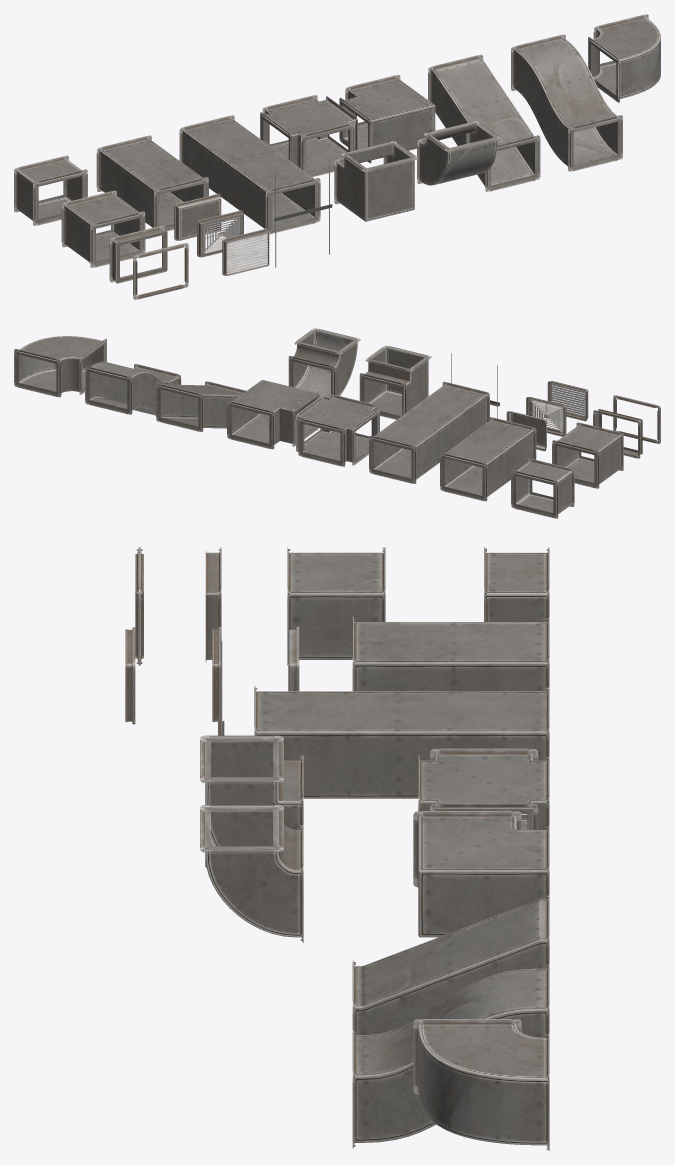
3 views of the same model, one above another, from view 1: azimuth 30°, elevation 25°; view 2: azimuth 150°, elevation 25°; view 3: azimuth 270°, elevation 25° (orthographic). The views are drawn at different scales.
Parts seen in each view (by area): view 1: modular_airduct_rectangular_01_tripple_01, modular_airduct_rectangular_01_transition_double_02, modular_airduct_rectangular_01_transition_double_01, modular_airduct_rectangular_01_double_01, modular_airduct_rectangular_01_splitter_01, modular_airduct_rectangular_01_corner_01, modular_airduct_rectangular_01_corner_02, modular_airduct_rectangular_01_bend_02, modular_airduct_rectangular_01_single_01, modular_airduct_rectangular_01_bend_01, modular_airduct_rectangular_01_half_01, modular_airduct_rectangular_01_vent_01 (+4 smaller); view 2: modular_airduct_rectangular_01_tripple_01, modular_airduct_rectangular_01_double_01, modular_airduct_rectangular_01_splitter_01, modular_airduct_rectangular_01_corner_02, modular_airduct_rectangular_01_bend_02, modular_airduct_rectangular_01_corner_01, modular_airduct_rectangular_01_bend_01, modular_airduct_rectangular_01_transition_double_02, modular_airduct_rectangular_01_single_01, modular_airduct_rectangular_01_transition_double_01, modular_airduct_rectangular_01_half_01, modular_airduct_rectangular_01_vent_01 (+4 smaller); view 3: modular_airduct_rectangular_01_tripple_01, modular_airduct_rectangular_01_bend_02, modular_airduct_rectangular_01_corner_02, modular_airduct_rectangular_01_double_01, modular_airduct_rectangular_01_transition_double_01, modular_airduct_rectangular_01_transition_double_02, modular_airduct_rectangular_01_bend_01, modular_airduct_rectangular_01_single_01, modular_airduct_rectangular_01_splitter_01, modular_airduct_rectangular_01_corner_01, modular_airduct_rectangular_01_half_01, modular_airduct_rectangular_01_connector_01 (+3 smaller).
Boxes of the visible parts, left/top/right/bottom form: modular_airduct_rectangular_01_tripple_01: left=179, top=115, right=320, bottom=233; modular_airduct_rectangular_01_transition_double_02: left=511, top=34, right=622, bottom=171; modular_airduct_rectangular_01_transition_double_01: left=428, top=54, right=540, bottom=191; modular_airduct_rectangular_01_double_01: left=96, top=135, right=208, bottom=231; modular_airduct_rectangular_01_splitter_01: left=260, top=95, right=357, bottom=176; modular_airduct_rectangular_01_corner_01: left=334, top=141, right=417, bottom=221; modular_airduct_rectangular_01_corner_02: left=339, top=74, right=435, bottom=163; modular_airduct_rectangular_01_bend_02: left=588, top=14, right=660, bottom=102; modular_airduct_rectangular_01_single_01: left=61, top=190, right=145, bottom=267; modular_airduct_rectangular_01_bend_01: left=417, top=121, right=500, bottom=185; modular_airduct_rectangular_01_half_01: left=14, top=155, right=87, bottom=225; modular_airduct_rectangular_01_vent_01: left=222, top=229, right=269, bottom=275; modular_airduct_rectangular_01_tripple_01: left=369, top=381, right=489, bottom=483; modular_airduct_rectangular_01_double_01: left=440, top=417, right=536, bottom=501; modular_airduct_rectangular_01_splitter_01: left=296, top=394, right=379, bottom=466; modular_airduct_rectangular_01_corner_02: left=227, top=380, right=319, bottom=449; modular_airduct_rectangular_01_bend_02: left=14, top=336, right=106, bottom=397; modular_airduct_rectangular_01_corner_01: left=359, top=345, right=431, bottom=419; modular_airduct_rectangular_01_bend_01: left=288, top=328, right=360, bottom=399; modular_airduct_rectangular_01_transition_double_02: left=85, top=361, right=181, bottom=415; modular_airduct_rectangular_01_single_01: left=552, top=422, right=623, bottom=488; modular_airduct_rectangular_01_transition_double_01: left=156, top=381, right=246, bottom=431; modular_airduct_rectangular_01_half_01: left=511, top=458, right=574, bottom=518; modular_airduct_rectangular_01_vent_01: left=547, top=381, right=588, bottom=421; modular_airduct_rectangular_01_tripple_01: left=254, top=686, right=549, bottom=798; modular_airduct_rectangular_01_bend_02: left=413, top=1019, right=549, bottom=1150; modular_airduct_rectangular_01_corner_02: left=413, top=811, right=549, bottom=937; modular_airduct_rectangular_01_double_01: left=352, top=616, right=549, bottom=691; modular_airduct_rectangular_01_transition_double_01: left=352, top=894, right=549, bottom=1035; modular_airduct_rectangular_01_transition_double_02: left=352, top=963, right=549, bottom=1148; modular_airduct_rectangular_01_bend_01: left=200, top=805, right=303, bottom=942; modular_airduct_rectangular_01_single_01: left=287, top=547, right=385, bottom=665; modular_airduct_rectangular_01_splitter_01: left=418, top=748, right=549, bottom=829; modular_airduct_rectangular_01_corner_01: left=200, top=735, right=303, bottom=867; modular_airduct_rectangular_01_half_01: left=484, top=547, right=549, bottom=621; modular_airduct_rectangular_01_connector_01: left=205, top=547, right=221, bottom=661.
Bounding box in the file's own units: 7.66 × 1.26 × 2.59.
2 materials, 2 textured.
